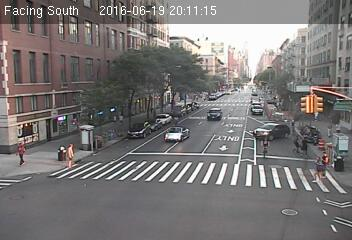neg: (126, 66, 161, 112), (238, 76, 271, 119), (253, 127, 280, 163), (175, 51, 202, 86), (325, 73, 351, 107), (275, 36, 298, 66), (60, 89, 82, 118), (306, 92, 326, 120), (282, 107, 300, 132), (94, 83, 112, 107), (41, 105, 58, 127), (314, 42, 330, 63), (290, 71, 305, 90)
pos: (6, 136, 31, 169), (57, 139, 81, 172), (307, 155, 330, 186), (317, 151, 335, 176), (288, 133, 306, 158), (296, 132, 313, 154), (322, 120, 337, 139)
